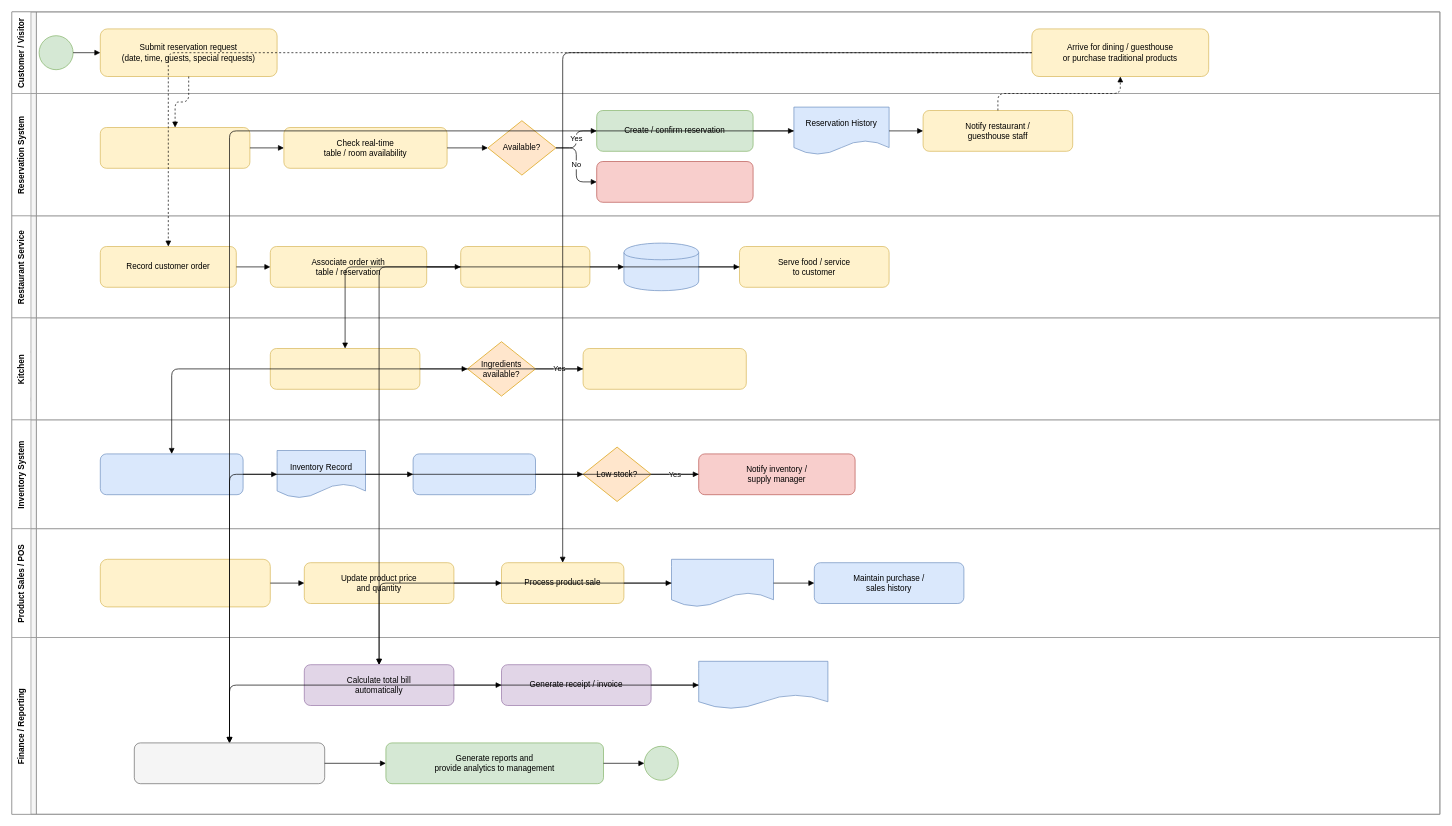
This 1452x826 diagram has some shape labels left out. Each missing label, with the centre of its shape:
Check stock level: the point at 474,474
Collect data (sales, reservations, inventory): the point at 229,763
End: the point at 661,763
Order Details: the point at 661,266
Prepare food / process order: the point at 345,368
Receive reservation request: the point at 175,147
Register traditional products (cheese, wine, jam, etc.): the point at 185,583
Reject or suggest alternative: the point at 674,181
Sales Transaction: the point at 722,583
Send order to kitchen: the point at 525,266
Start: the point at 55,52
Store financial and transaction data: the point at 763,685
Update ingredient usage / sold items: the point at 664,368
Update stock quantities: the point at 171,474
